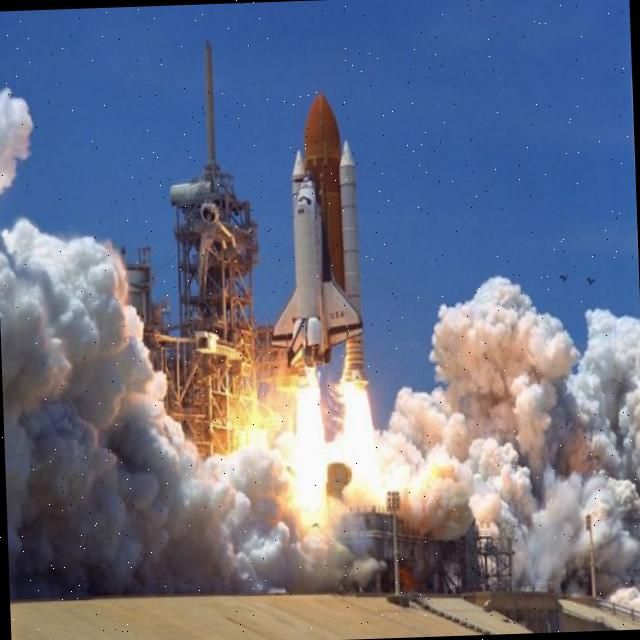rocket: (260, 167, 366, 369)
